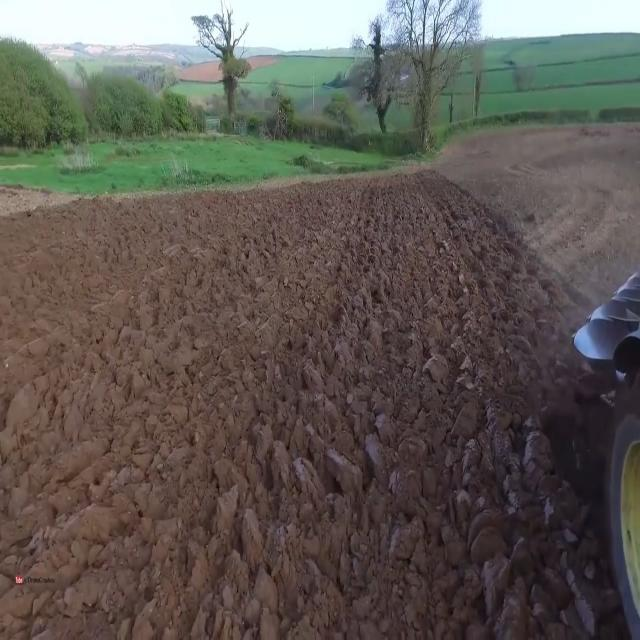Vehicle: (568, 261, 640, 640)
